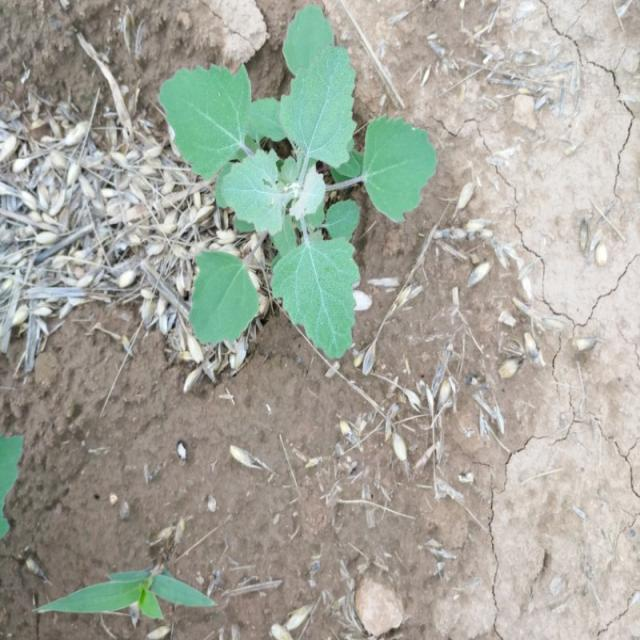goosefoots: (165, 27, 414, 400)
